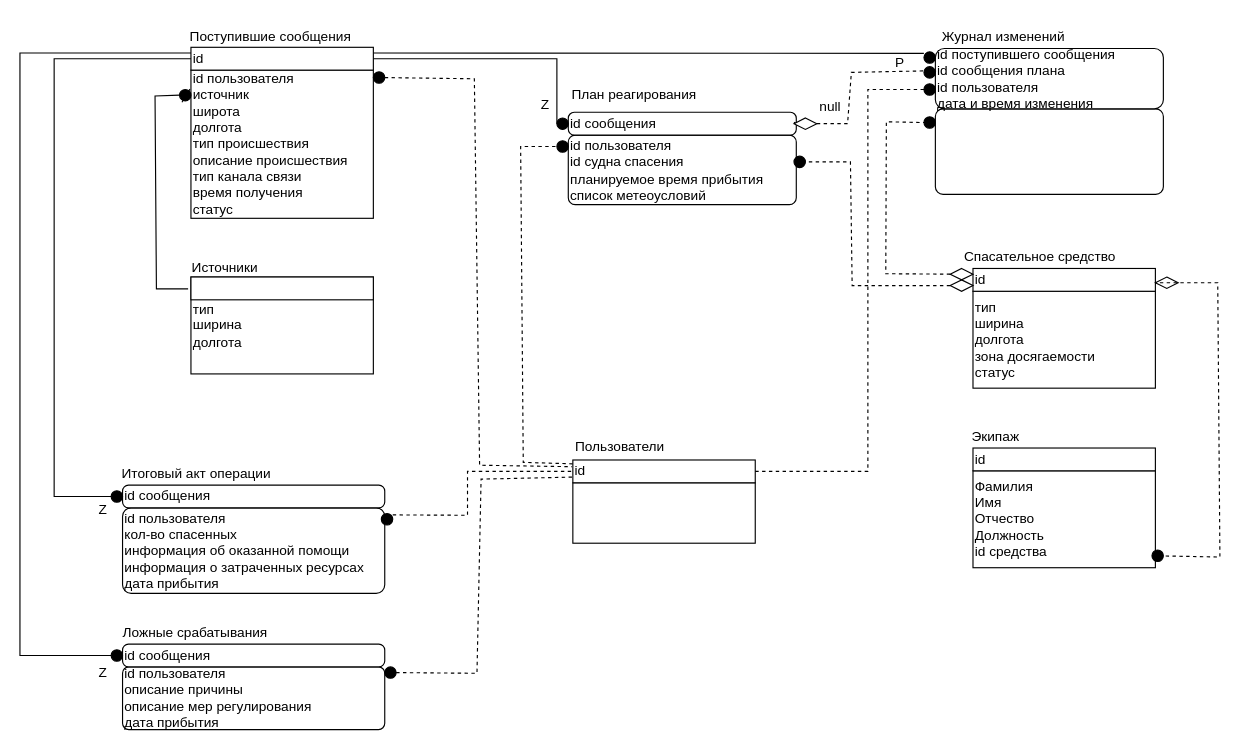
Some shapes in this 1241 by 750 pixel diagram are drawn without their labels. The shapes that lost their labels are listed below. From the top down, each one's centre as x and y in pixels, then its label:
At point 1048,151: "статус id судна спасения планируемое время прибытия список метеоусловий причины".
At point 281,288: "id источника".
At point 663,512: "логин пароль роль".
